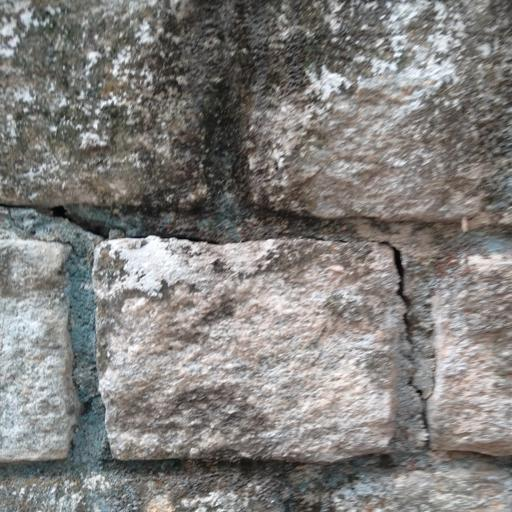minor_crack: (3, 179, 407, 263), (374, 222, 455, 451)
